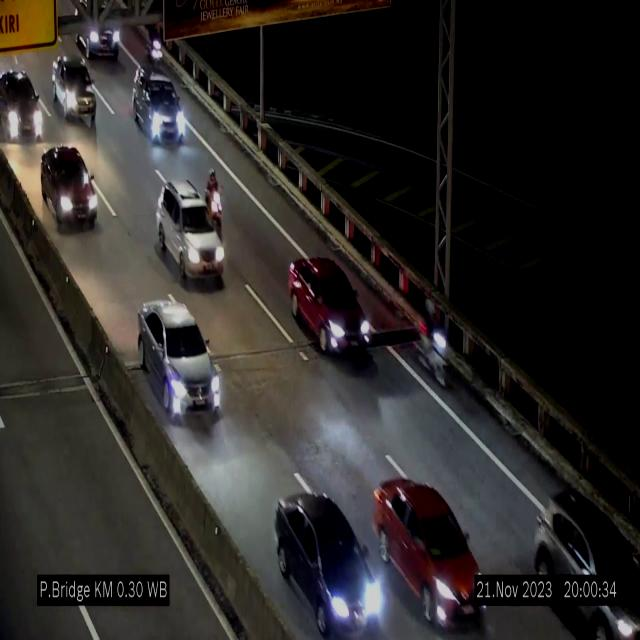Car: (276, 494, 388, 638), (378, 468, 482, 618), (138, 298, 222, 419), (288, 256, 372, 353), (156, 180, 224, 287), (40, 142, 97, 228), (130, 63, 187, 143), (0, 67, 44, 145), (50, 54, 100, 120)
Motorcycle: (421, 294, 449, 389), (204, 163, 225, 237)
